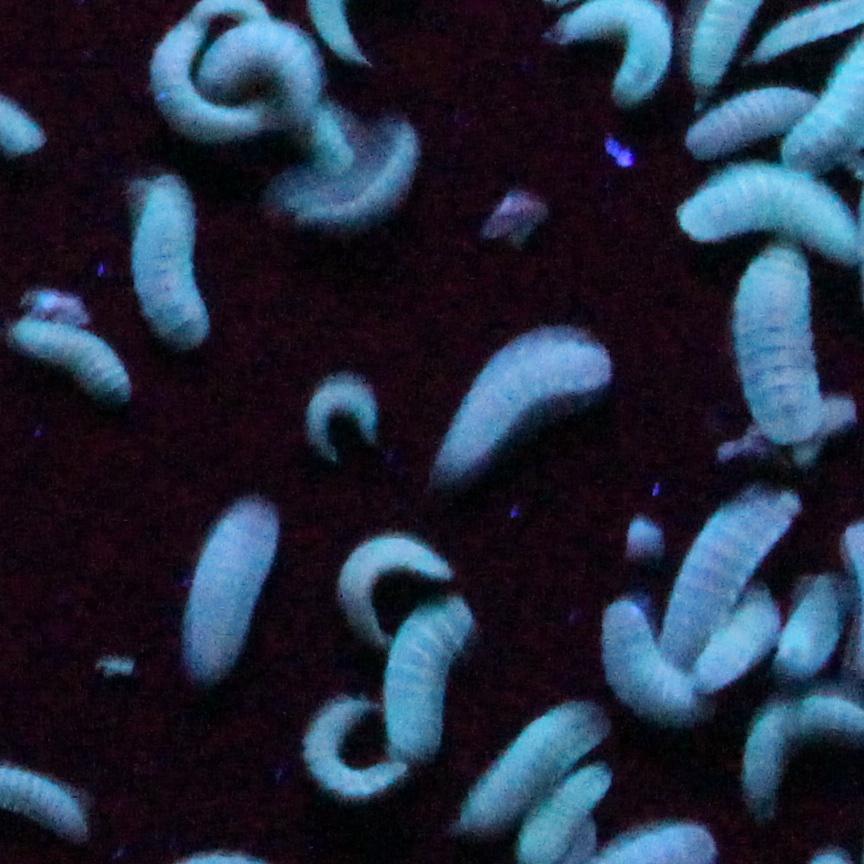larve: (437, 327, 612, 488), (660, 498, 804, 665), (462, 703, 611, 838), (184, 489, 282, 689), (734, 239, 823, 444), (674, 165, 860, 258), (595, 596, 718, 723), (335, 529, 458, 647), (132, 173, 213, 344), (197, 20, 330, 124), (389, 600, 466, 772), (299, 126, 417, 232), (304, 696, 406, 796), (686, 90, 826, 162), (698, 592, 784, 689), (775, 578, 851, 678), (300, 372, 380, 456)
